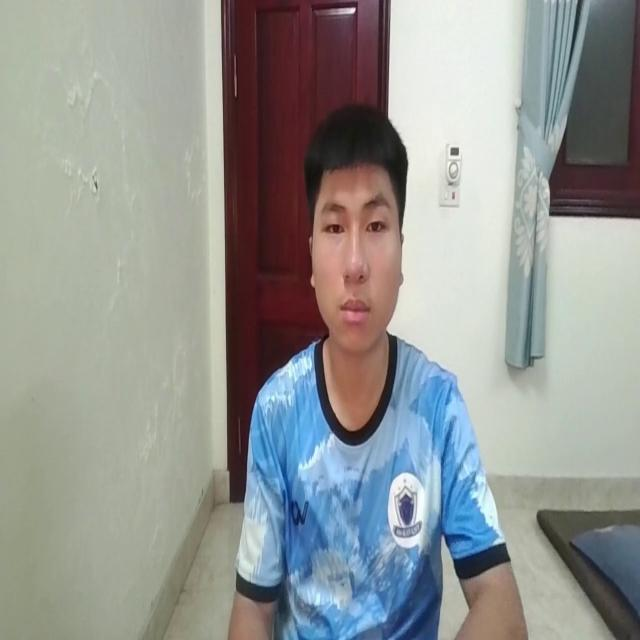student: (231, 94, 527, 640)
